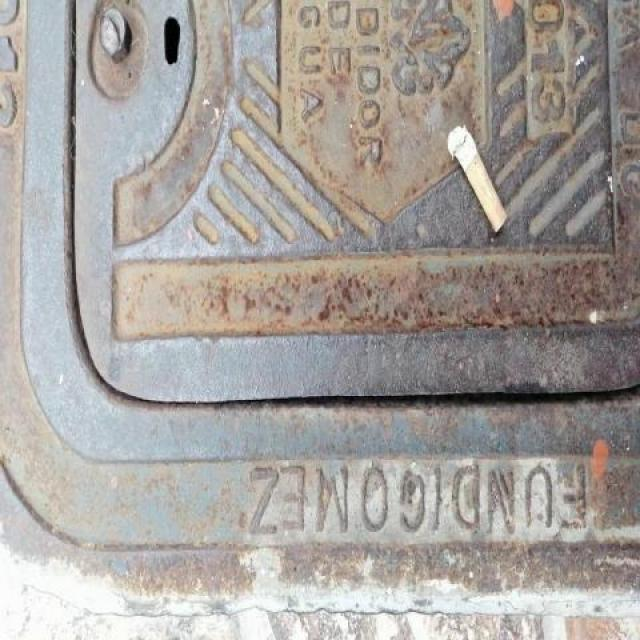non-organic waste: (442, 122, 510, 239)
